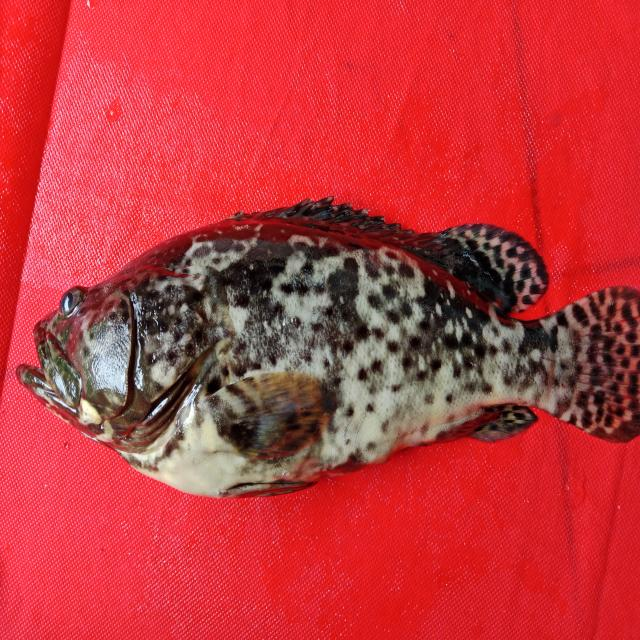ikan: (9, 170, 631, 508)
